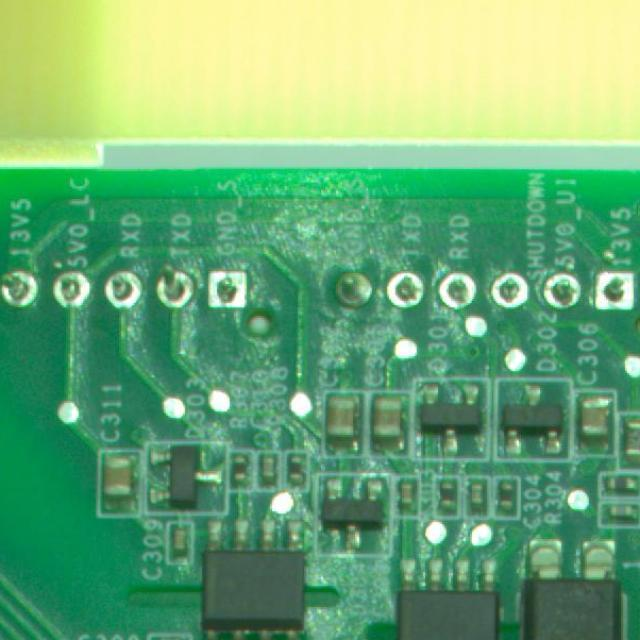Insufficient solder: (204, 266, 248, 319), (592, 270, 640, 316), (156, 266, 195, 320), (0, 259, 36, 315), (58, 268, 90, 320), (108, 266, 138, 317), (441, 272, 478, 310), (550, 270, 580, 315), (389, 271, 424, 305), (498, 270, 524, 310)
